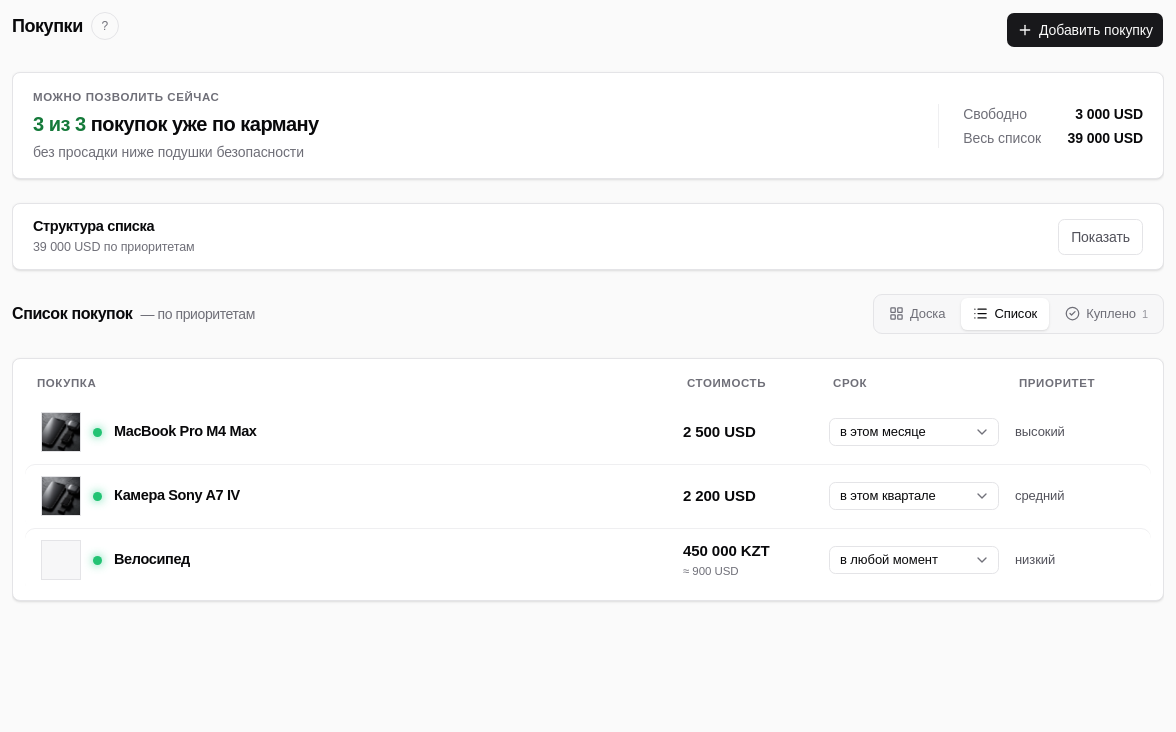
Test case: (E) Мечты: разбивка «сколько денег нужно» по приоритетам › раскрывает high/medium/low из by_priority по запросу
Expected: the text "Высокий приоритет" is not shown
Step 1. Click the button with aria-label "Показать структуру списка" → (1101, 236), box [1058, 218, 1143, 254]
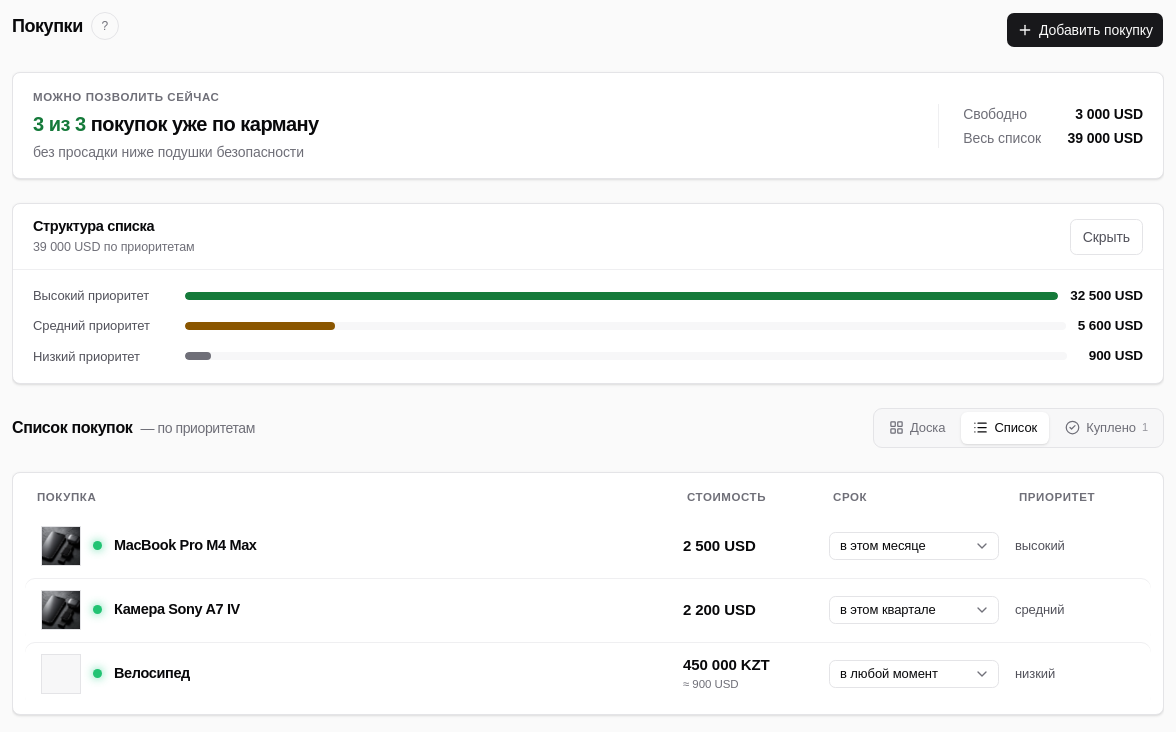
Now the text "Высокий приоритет" is shown, box [33, 288, 149, 303]
Now the text "Низкий приоритет" is shown, box [33, 349, 140, 364]
